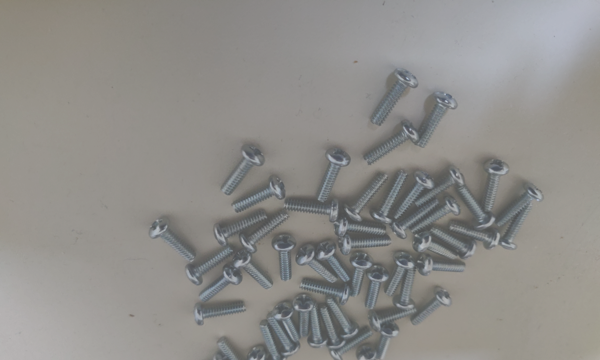shortscrew: (371, 68, 419, 127), (363, 121, 420, 166), (417, 92, 459, 149), (221, 144, 265, 196), (343, 173, 389, 222), (496, 182, 545, 227), (239, 210, 290, 253), (370, 169, 409, 225), (413, 166, 465, 208), (149, 217, 197, 262), (231, 175, 286, 214), (393, 170, 436, 219), (390, 199, 441, 239), (213, 211, 269, 247), (186, 245, 235, 286), (409, 195, 460, 234), (455, 184, 496, 230), (317, 148, 351, 203), (198, 263, 243, 303), (498, 202, 534, 251), (296, 243, 338, 284), (428, 226, 478, 260), (410, 287, 452, 327), (234, 250, 273, 291), (448, 221, 501, 251), (327, 328, 374, 360), (267, 312, 300, 357), (481, 159, 509, 212), (384, 251, 416, 297), (369, 303, 418, 333), (326, 296, 359, 340), (299, 278, 351, 305), (317, 241, 351, 282), (413, 231, 459, 261), (284, 199, 340, 223), (195, 302, 247, 327), (335, 214, 387, 238), (338, 233, 392, 256), (393, 261, 417, 311), (364, 264, 390, 310), (273, 301, 302, 342), (272, 234, 297, 281), (349, 252, 374, 298), (260, 320, 288, 360), (373, 321, 400, 360), (416, 255, 466, 276), (293, 294, 315, 337), (217, 338, 255, 360), (311, 303, 327, 349), (247, 345, 280, 360), (356, 344, 383, 360), (186, 353, 230, 360)
